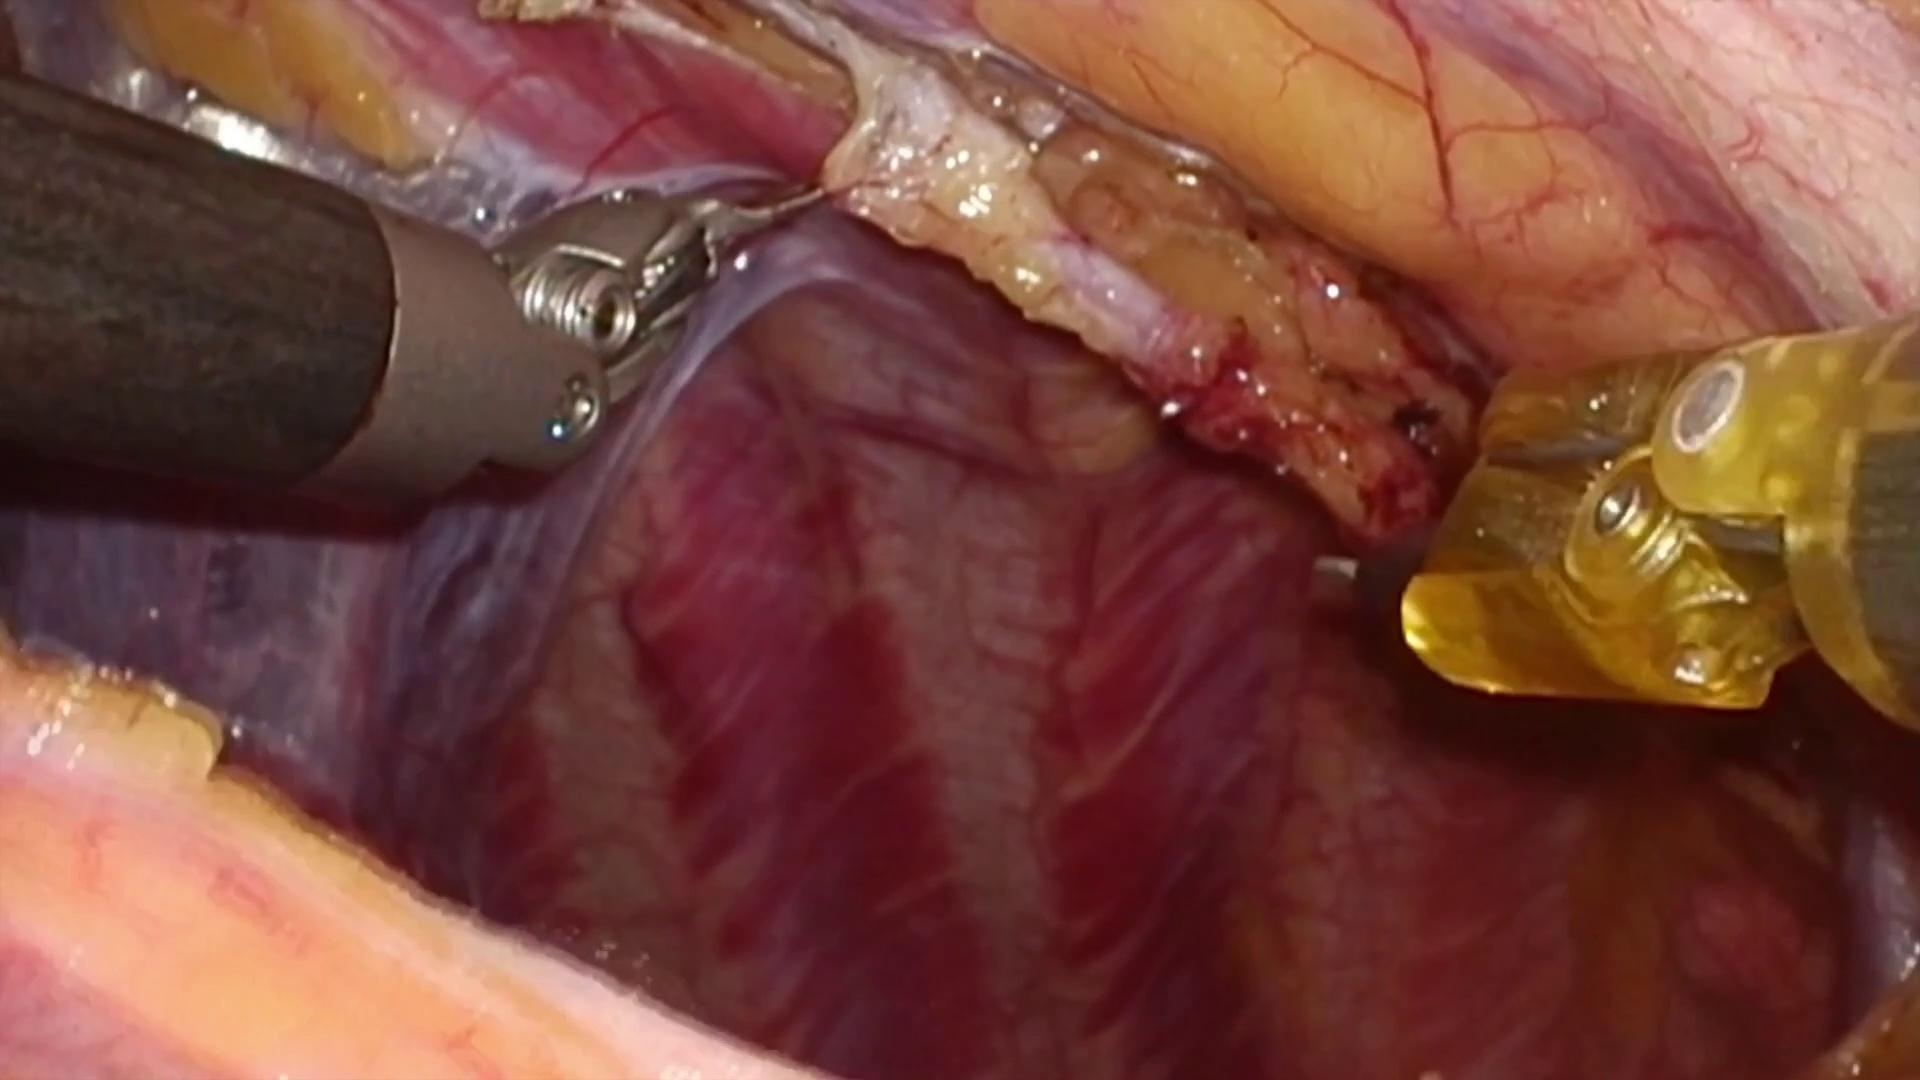Cautery_Spatula: (1304, 546, 1433, 640)
Debakey: (686, 170, 845, 266)
